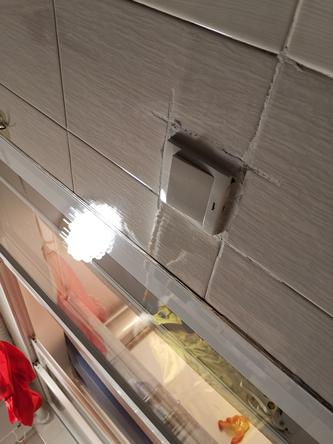switch: (161, 151, 217, 227)
